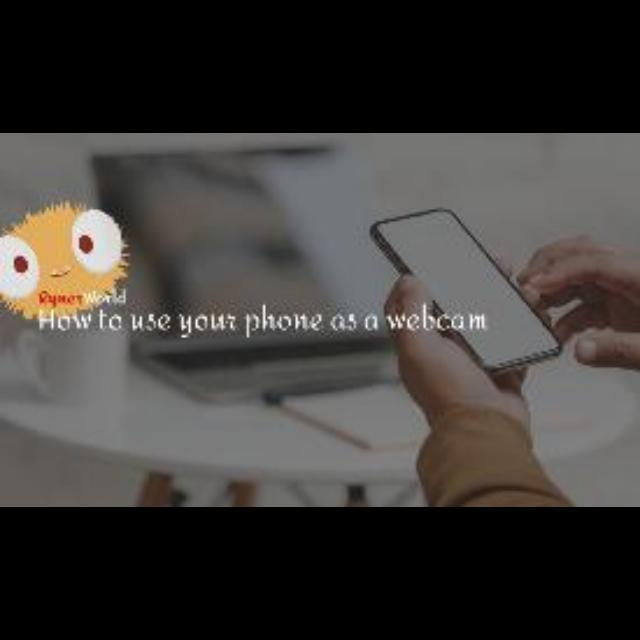Phone: (370, 200, 556, 382)
